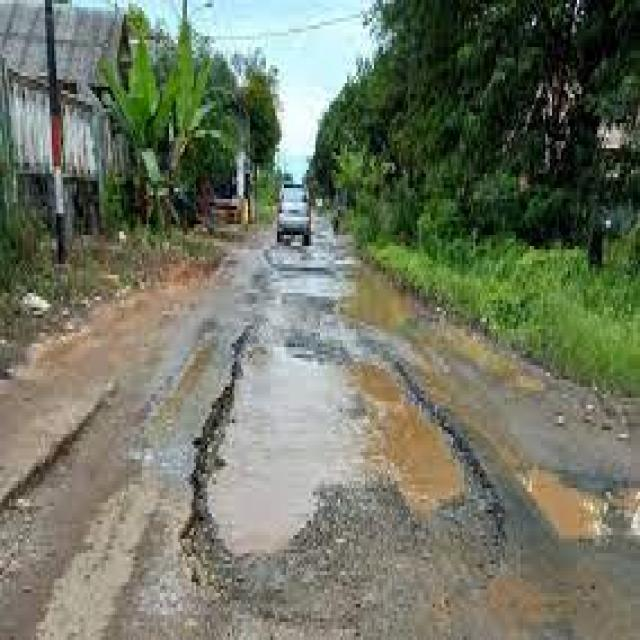potholes: (213, 313, 468, 564)
